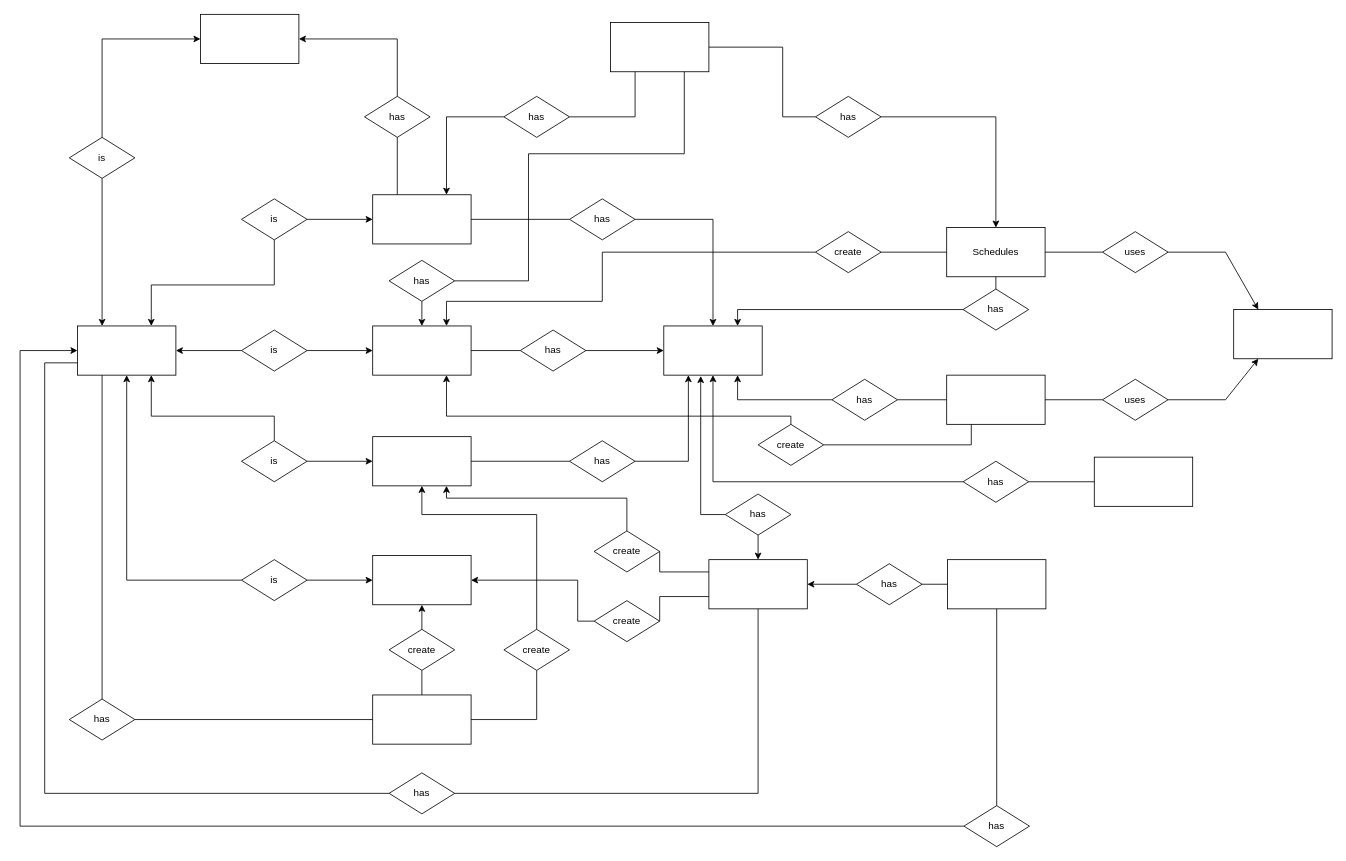
Some shapes in this 1346 by 861 pixel diagram are drawn without their labels. Here are the shapes that lost their labels. From the top down, the box of each, then its label:
(200, 14, 299, 64): Parents
(610, 22, 709, 72): Attendances
(372, 194, 471, 244): Players
(77, 325, 176, 375): Users
(372, 325, 471, 375): Coaches
(663, 325, 762, 375): Teams
(1233, 309, 1332, 359): Courts
(946, 374, 1045, 424): Matches
(372, 436, 471, 486): Managers
(1093, 456, 1193, 506): TeamFunds
(372, 555, 471, 605): Presidents
(708, 559, 807, 609): Conversations
(947, 559, 1046, 609): Messages
(372, 694, 471, 744): Notifications
